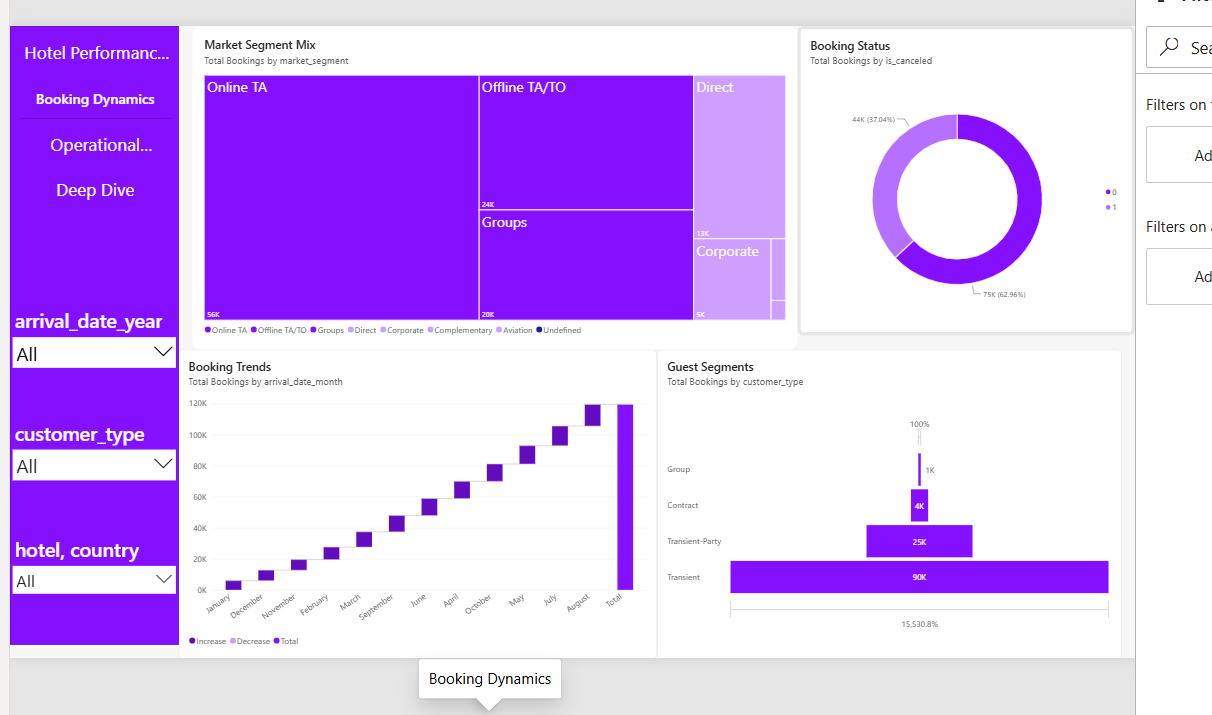

Layout of this report page (visuals, bound fields, positions):
{"tool":"powerbi","page":{"name":"Booking Dynamics","canvas":[1920,1080],"ordinal":1},"visuals":[{"type":"funnel","title":"Guest Segments","fields":{"Category":["Dim_Customer.customer_type"],"Y":["hotel_bookings.Total Bookings"]},"box":[1104,552,792,528],"z":1000},{"type":"waterfallChart","title":"Booking Trends","fields":{"Category":["hotel_bookings.arrival_date_month"],"Y":["hotel_bookings.Total Bookings"]},"box":[288,552,816,528],"z":2000},{"type":"treemap","title":"Market Segment Mix","fields":{"Group":["hotel_bookings.market_segment"],"Values":["hotel_bookings.Total Bookings"]},"box":[312,0,1032,552],"z":6001},{"type":"shape","box":[0,0,288,1056],"z":6002},{"type":"slicer","fields":{"Values":["Dim_Hotel.hotel","hotel_bookings.country"]},"box":[0,870,287.8,121.2],"z":6003},{"type":"slicer","fields":{"Values":["Dim_Customer.customer_type"]},"box":[0,672,288,120],"z":6004},{"type":"slicer","fields":{"Values":["hotel_bookings.arrival_date_year"]},"box":[0,480,288,192],"z":6005},{"type":"pageNavigator","box":[2.2,10.8,287.8,307.3],"z":6006},{"type":"donutChart","title":"Booking Status","fields":{"Category":["hotel_bookings.is_canceled"],"Y":["hotel_bookings.Total Bookings"]},"box":[1344,0,576,528],"z":6007}]}

Visuals, with their boxes on the page's 1920x1080 design canvas (x1, y1, x2, y2). These are canvas units, not pixel positions in the 1212x715 screenshot, which may show the page scaled, cropped or inside an application window:
"Guest Segments" funnel: rect(1104, 552, 1896, 1080)
"Booking Trends" waterfallChart: rect(288, 552, 1104, 1080)
"Market Segment Mix" treemap: rect(312, 0, 1344, 552)
shape: rect(0, 0, 288, 1056)
slicer - Dim_Hotel.hotel x hotel_bookings.country: rect(0, 870, 288, 991)
slicer - Dim_Customer.customer_type: rect(0, 672, 288, 792)
slicer - hotel_bookings.arrival_date_year: rect(0, 480, 288, 672)
pageNavigator: rect(2, 11, 290, 318)
"Booking Status" donutChart: rect(1344, 0, 1920, 528)
